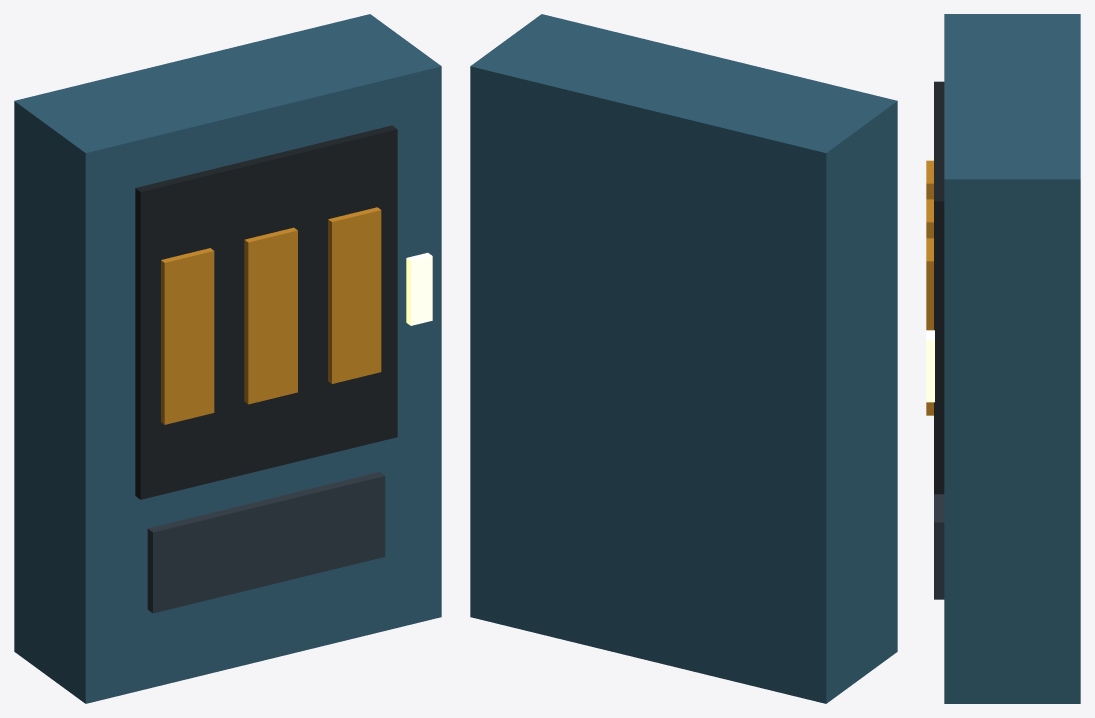
The model's file is vending-machine.glb.
3 renders of one model, left to right at view 1: azimuth 30°, elevation 25°; view 2: azimuth 150°, elevation 25°; view 3: azimuth 270°, elevation 25°, orthographic. The views are drawn at different scales.
Visible parts, largest first — view 1: vending-machine; view 2: vending-machine; view 3: vending-machine.
Part boxes in pixels (<box>): vending-machine: <box>14,14,441,703</box>; vending-machine: <box>470,14,897,703</box>; vending-machine: <box>926,14,1080,703</box>.
Bounding box in the file's own units: 1.15 × 1.7 × 0.4525.
